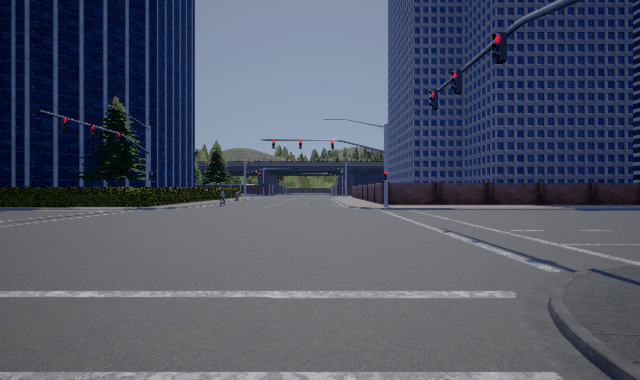bike: (217, 189, 227, 208)
traffic_light: (492, 32, 507, 64), (451, 70, 462, 94), (429, 90, 438, 110), (60, 117, 68, 131), (89, 125, 95, 138), (115, 133, 121, 144), (384, 171, 387, 180), (331, 140, 334, 149), (299, 140, 302, 149), (272, 140, 275, 149)
